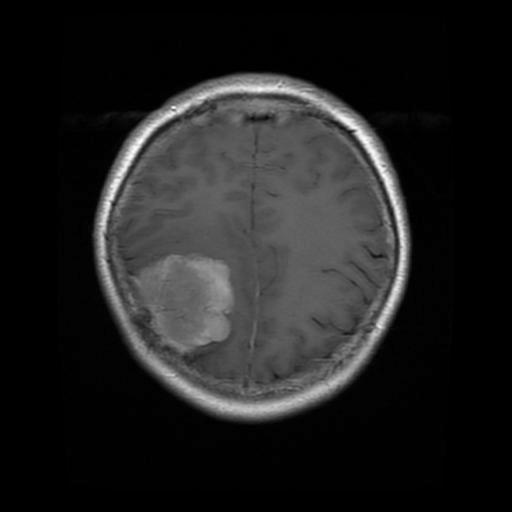Tumour-Meningioma: (124, 224, 240, 362)
